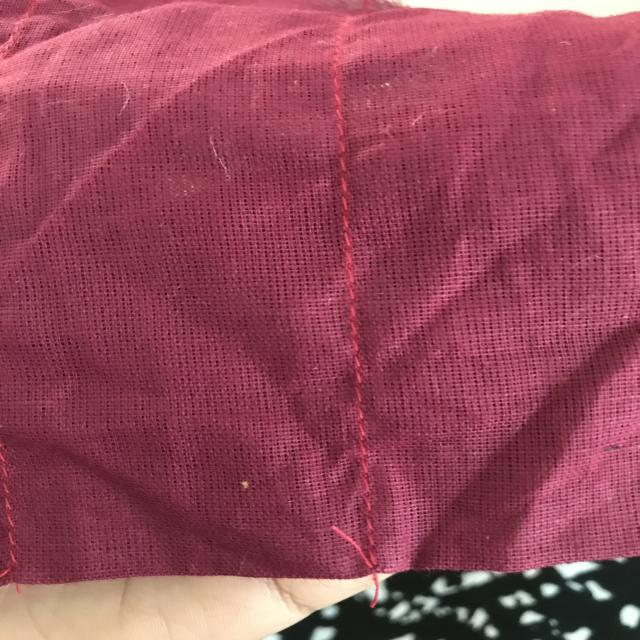good: (318, 220, 378, 342)
